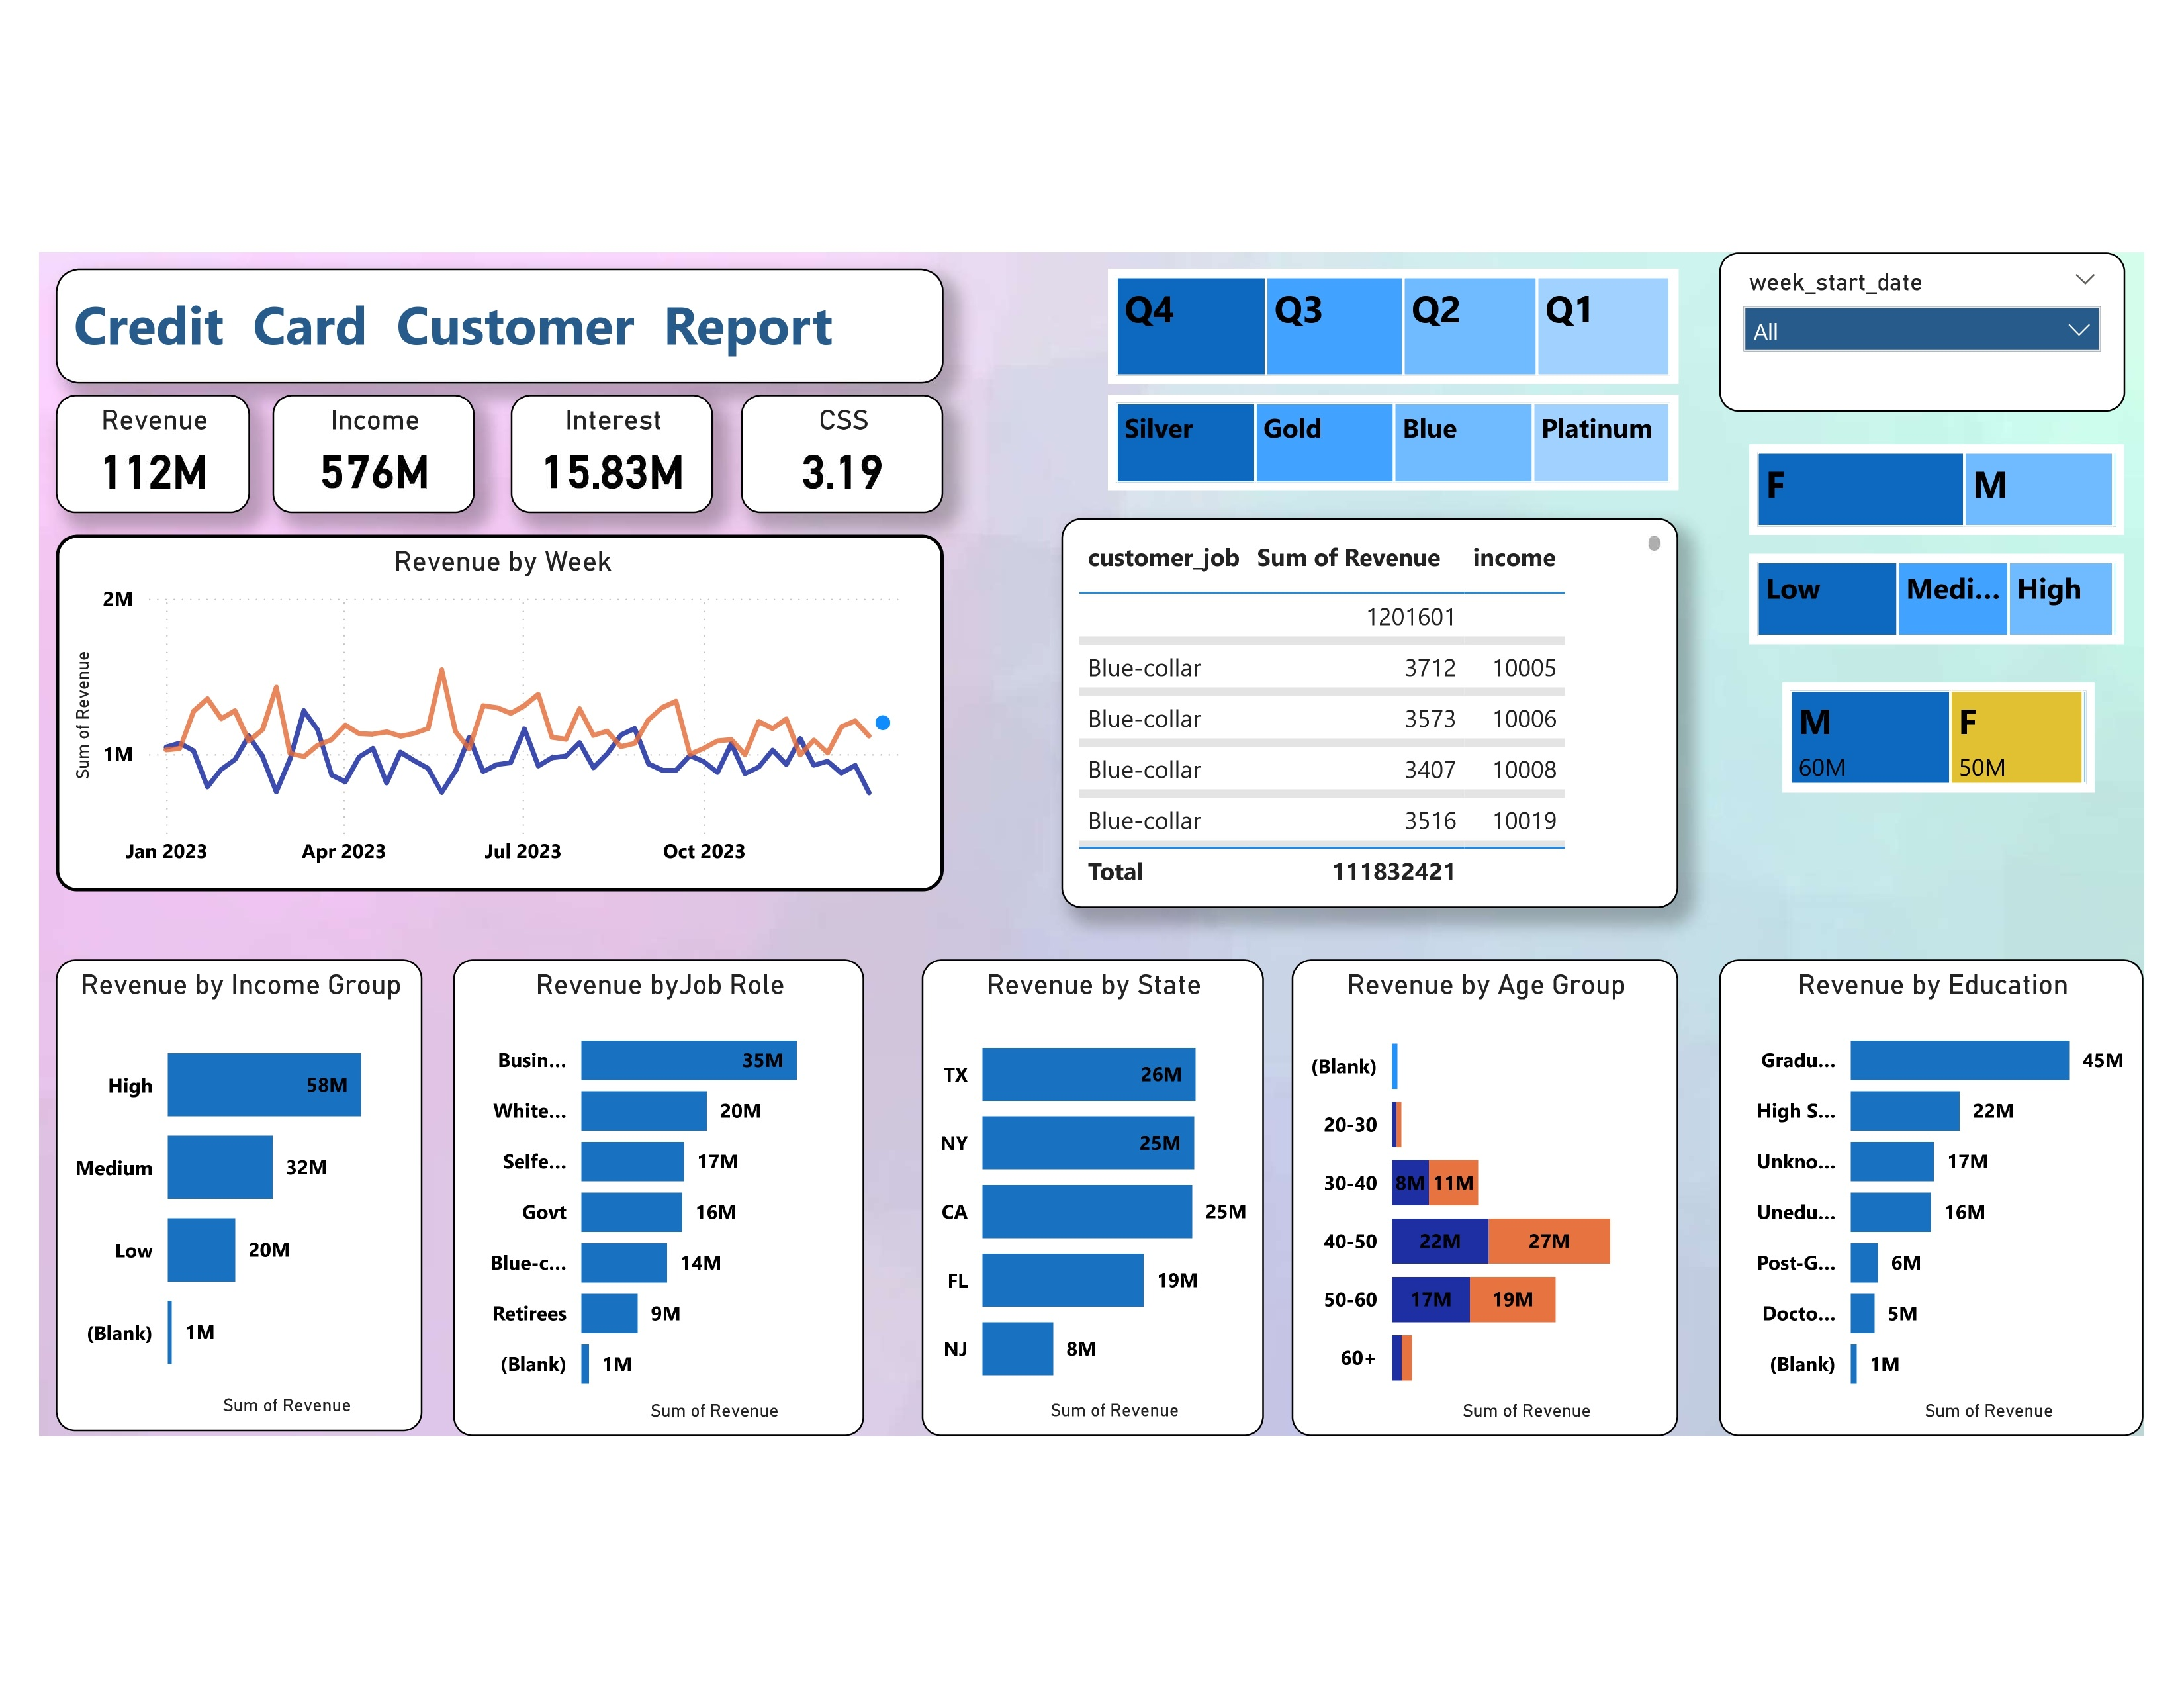

The page's visual inventory and layout, read from the dashboard file:
{"tool":"powerbi","page":{"name":"CC Customer","canvas":[1280,720],"ordinal":0},"visuals":[{"type":"textbox","box":[10,10,540,70],"z":0},{"type":"barChart","title":"Revenue by Age Group","fields":{"Y":["Sum(public cc_detail.Revenue)"],"Category":["public cust_detail.AgeGroup"],"Series":["public cust_detail.gender"]},"box":[761.7,430,235,290],"z":1000},{"type":"card","title":"Revenue","fields":{"Values":["Sum(public cc_detail.Revenue)"]},"box":[10,86.7,118.3,71.7],"z":2000},{"type":"card","title":"Income","fields":{"Values":["Sum(public cust_detail.income)"]},"box":[141.7,86.7,123.3,71.7],"z":3000},{"type":"card","title":"Interest","fields":{"Values":["Sum(public cc_detail.interest_earned)"]},"box":[286.7,86.7,123.3,71.7],"z":4000},{"type":"card","title":"CSS","fields":{"Values":["Avg(public cust_detail.cust_satisfaction_score)"]},"box":[426.7,86.7,123.3,71.7],"z":5000},{"type":"slicer","fields":{"Values":["public cc_detail.week_start_date"]},"box":[1021.7,0,246.7,96.7],"z":6000},{"type":"treemap","fields":{"Group":["public cc_detail.qtr"],"Values":["Avg(public cc_detail.client_num)"]},"box":[650,10,346.7,70],"z":7000},{"type":"treemap","fields":{"Values":["Avg(public cc_detail.client_num)"],"Group":["public cc_detail.card_category"]},"box":[650,86.7,346.7,58.3],"z":8000},{"type":"treemap","fields":{"Group":["public cust_detail.gender"],"Values":["CountNonNull(public cc_detail.client_num)"]},"box":[1040,116.7,228.3,55],"z":9000},{"type":"treemap","fields":{"Values":["CountNonNull(public cc_detail.client_num)"],"Group":["public cust_detail.IncomeGroup"]},"box":[1040,183.3,228.3,55],"z":10000},{"type":"lineChart","title":"Revenue by Week","fields":{"Y":["Sum(public cc_detail.Revenue)"],"Series":["public cust_detail.gender"],"Category":["public cc_detail.week_start_date.Variation.Date Hierarchy.Year","public cc_detail.week_start_date.Variation.Date Hierarchy.Month","public cc_detail.week_start_date.Variation.Date Hierarchy.Day"]},"box":[10,171.7,540,216.7],"z":11000},{"type":"tableEx","fields":{"Values":["public cust_detail.customer_job","Sum(public cc_detail.Revenue)","public cust_detail.income"]},"box":[621.7,161.7,375,236.7],"z":12000},{"type":"treemap","fields":{"Group":["public cust_detail.gender"],"Values":["Sum(public cc_detail.Revenue)"]},"box":[1060,261.7,190,66.7],"z":13000},{"type":"barChart","title":"Revenue by Income Group","fields":{"Y":["Sum(public cc_detail.Revenue)"],"Category":["public cust_detail.IncomeGroup"]},"box":[10,430,223.3,286.7],"z":14000},{"type":"barChart","title":"Revenue byJob Role","fields":{"Y":["Sum(public cc_detail.Revenue)"],"Category":["public cust_detail.customer_job"]},"box":[251.7,430,250,290],"z":15000},{"type":"barChart","title":"Revenue by Education","fields":{"Y":["Sum(public cc_detail.Revenue)"],"Category":["public cust_detail.education_level"]},"box":[1021.7,430,258.3,290],"z":16000},{"type":"barChart","title":"Revenue by State","fields":{"Y":["Sum(public cc_detail.Revenue)"],"Category":["public cust_detail.state_cd"]},"box":[537.1,430.2,207.8,289.8],"z":17000}]}

Visuals, with their boxes on the page's 1280x720 design canvas (x1, y1, x2, y2). These are canvas units, not pixel positions in the 2184x1688 screenshot, which may show the page scaled, cropped or inside an application window:
textbox: left=10, top=10, right=550, bottom=80
"Revenue by Age Group" barChart: left=762, top=430, right=997, bottom=720
"Revenue" card: left=10, top=87, right=128, bottom=158
"Income" card: left=142, top=87, right=265, bottom=158
"Interest" card: left=287, top=87, right=410, bottom=158
"CSS" card: left=427, top=87, right=550, bottom=158
slicer - public cc_detail.week_start_date: left=1022, top=0, right=1268, bottom=97
treemap - public cc_detail.qtr x Avg(public cc_detail.client_num): left=650, top=10, right=997, bottom=80
treemap - Avg(public cc_detail.client_num) x public cc_detail.card_category: left=650, top=87, right=997, bottom=145
treemap - public cust_detail.gender x CountNonNull(public cc_detail.client_num): left=1040, top=117, right=1268, bottom=172
treemap - CountNonNull(public cc_detail.client_num) x public cust_detail.IncomeGroup: left=1040, top=183, right=1268, bottom=238
"Revenue by Week" lineChart: left=10, top=172, right=550, bottom=388
tableEx - public cust_detail.customer_job x Sum(public cc_detail.Revenue): left=622, top=162, right=997, bottom=398
treemap - public cust_detail.gender x Sum(public cc_detail.Revenue): left=1060, top=262, right=1250, bottom=328
"Revenue by Income Group" barChart: left=10, top=430, right=233, bottom=717
"Revenue byJob Role" barChart: left=252, top=430, right=502, bottom=720
"Revenue by Education" barChart: left=1022, top=430, right=1280, bottom=720
"Revenue by State" barChart: left=537, top=430, right=745, bottom=720
